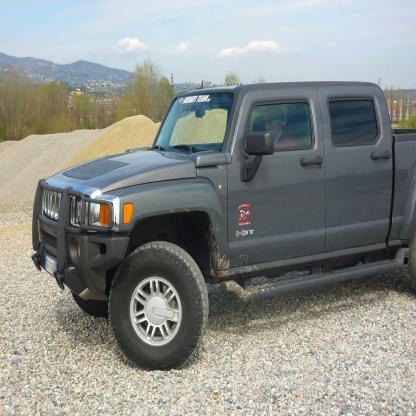Vehicle: (33, 82, 415, 369)
